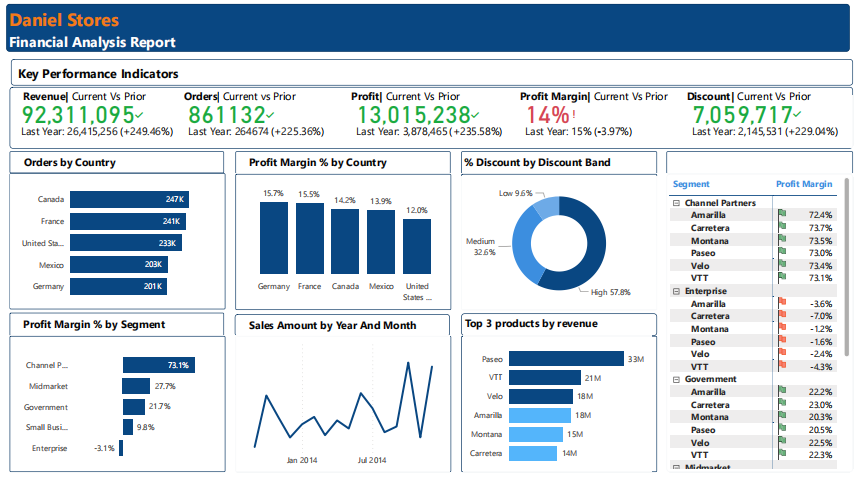

This screenshot's page, from the dashboard's own definition file:
{"tool":"powerbi","page":{"name":"Page 1","canvas":[1280,720],"ordinal":0},"visuals":[{"type":"shape","box":[998.8,271.2,281.2,448.8],"z":0},{"type":"shape","box":[5,15,1270,71.7],"z":1000},{"type":"shape","box":[10,140,1270,93.3],"z":2000},{"type":"shape","box":[350.4,514.6,324.6,205.5],"z":3000},{"type":"shape","box":[690.3,514.6,294.8,205.5],"z":4000},{"type":"shape","box":[11.7,98.3,1268.3,40],"z":5000},{"type":"shape","box":[10,236.7,323.3,33.3],"z":6000},{"type":"shape","box":[10,480,323.3,35],"z":7000},{"type":"shape","box":[348.7,481.9,324.6,34],"z":8000},{"type":"shape","box":[690.3,480.5,294.8,34],"z":9000},{"type":"shape","box":[690.3,236.7,294.8,34],"z":10000},{"type":"shape","box":[349.5,236.7,324.6,34],"z":11000},{"type":"shape","box":[998.6,237.1,281.4,34.3],"z":12000},{"type":"shape","box":[350.4,270.7,324.6,205.5],"z":13000},{"type":"shape","box":[690.3,270.7,294.8,205.5],"z":14000},{"type":"textbox","box":[5,15,223.3,48.3],"z":15000},{"type":"textbox","box":[5,51.7,320,50],"z":16000},{"type":"textbox","box":[18.3,101.7,291.7,41.7],"z":17000},{"type":"kpi","fields":{"Indicator":["Analysis.Total Revenue"],"TrendLine":["Date Table.year"],"Goal":["Analysis.Total Revenue LY"]},"box":[14.5,151.7,253.3,80],"z":18000},{"type":"shape","box":[10,270,325,205],"z":19000},{"type":"shape","box":[10,515,325,205],"z":20000},{"type":"textbox","box":[25.5,137.5,292,41.1],"z":21000},{"type":"kpi","fields":{"TrendLine":["Date Table.year"],"Indicator":["Analysis.Orders"],"Goal":["Analysis.Orders LY"]},"box":[267.1,151.7,253.3,80],"z":22000},{"type":"kpi","fields":{"TrendLine":["Date Table.year"],"Indicator":["Analysis.Total Profit"],"Goal":["Analysis.Total Profit LY"]},"box":[519.7,151.7,253.3,80],"z":23000},{"type":"kpi","fields":{"Indicator":["Analysis.Profit Margin"],"TrendLine":["Date Table.year"],"Goal":["Analysis.Profit Margin LY"]},"box":[774,151.7,252.3,79.4],"z":24000},{"type":"kpi","fields":{"Indicator":["Analysis.Discount offered"],"TrendLine":["Date Table.year"],"Goal":["Analysis.Discount offered LY"]},"box":[1024.9,151.7,253.7,79.4],"z":25000},{"type":"textbox","box":[267.9,137.5,292,41.1],"z":26000},{"type":"textbox","box":[520.2,137.5,292,41.1],"z":27000},{"type":"textbox","box":[774,137.5,292,41.1],"z":28000},{"type":"textbox","box":[1024.9,137.5,255.1,41.1],"z":29000},{"type":"barChart","fields":{"Category":["financials.Country"],"Y":["Analysis.Orders"]},"box":[11.3,270.7,311.8,201.3],"z":30000},{"type":"textbox","box":[26.9,236.7,292,41.1],"z":31000},{"type":"clusteredColumnChart","fields":{"Y":["Analysis.Profit Margin"],"Category":["financials.Country"]},"box":[353,275,320.4,197],"z":32000},{"type":"textbox","box":[365.7,236.7,292,41.1],"z":33000},{"type":"donutChart","fields":{"Category":["financials.Discount Band"],"Y":["Analysis.Discount offered"]},"box":[690.3,275,294.8,201.3],"z":34000},{"type":"textbox","box":[690.3,236.7,292,41.1],"z":35000},{"type":"barChart","fields":{"Category":["financials.Segment"],"Y":["Analysis.Profit Margin"]},"box":[14.2,521.6,318.9,192.8],"z":36000},{"type":"textbox","box":[25.5,480.5,292,41.1],"z":37000},{"type":"lineChart","fields":{"Category":["Date Table.Date.Variation.Date Hierarchy.Year","Date Table.Date.Variation.Date Hierarchy.Month"],"Y":["Analysis.Revenue"]},"box":[350.1,514.6,323.2,205.5],"z":38000},{"type":"barChart","fields":{"Y":["Analysis.Revenue"],"Category":["financials.Product"]},"box":[694.3,514.3,281.4,205.7],"z":39000},{"type":"textbox","box":[691.2,480,292.5,33.8],"z":40000},{"type":"pivotTable","fields":{"Rows":["financials.Segment","financials.Product"],"Values":["Analysis.Profit Margin"],"Columns":["financials.Product"]},"box":[998.8,271.2,281.2,448.8],"z":41000},{"type":"textbox","box":[365.7,481.9,292,32.6],"z":42000}]}

Visuals, with their boxes in screenshot pixels (x1, y1, x2, y2), scaled from the page's 1280x720 canvas onto the 860x487 screenshot:
shape: [671,183,859,486]
shape: [3,10,857,59]
shape: [7,95,859,158]
shape: [235,348,454,486]
shape: [464,348,662,486]
shape: [8,66,859,94]
shape: [7,160,224,183]
shape: [7,325,224,348]
shape: [234,326,452,349]
shape: [464,325,662,348]
shape: [464,160,662,183]
shape: [235,160,453,183]
shape: [671,160,859,184]
shape: [235,183,454,322]
shape: [464,183,662,322]
textbox: [3,10,153,43]
textbox: [3,35,218,69]
textbox: [12,69,208,97]
kpi - Analysis.Total Revenue x Date Table.year: [10,103,180,157]
shape: [7,183,225,321]
shape: [7,348,225,486]
textbox: [17,93,213,121]
kpi - Date Table.year x Analysis.Orders: [179,103,350,157]
kpi - Date Table.year x Analysis.Total Profit: [349,103,519,157]
kpi - Analysis.Profit Margin x Date Table.year: [520,103,690,156]
kpi - Analysis.Discount offered x Date Table.year: [689,103,859,156]
textbox: [180,93,376,121]
textbox: [350,93,546,121]
textbox: [520,93,716,121]
textbox: [689,93,859,121]
barChart - financials.Country x Analysis.Orders: [8,183,217,319]
textbox: [18,160,214,188]
clusteredColumnChart - Analysis.Profit Margin x financials.Country: [237,186,452,319]
textbox: [246,160,442,188]
donutChart - financials.Discount Band x Analysis.Discount offered: [464,186,662,322]
textbox: [464,160,660,188]
barChart - financials.Segment x Analysis.Profit Margin: [10,353,224,483]
textbox: [17,325,213,353]
lineChart - Date Table.Date.Variation.Date Hierarchy.Year x Date Table.Date.Variation.Date Hierarchy.Month: [235,348,452,486]
barChart - Analysis.Revenue x financials.Product: [466,348,656,486]
textbox: [464,325,661,348]
pivotTable - financials.Segment x financials.Product: [671,183,859,486]
textbox: [246,326,442,348]
